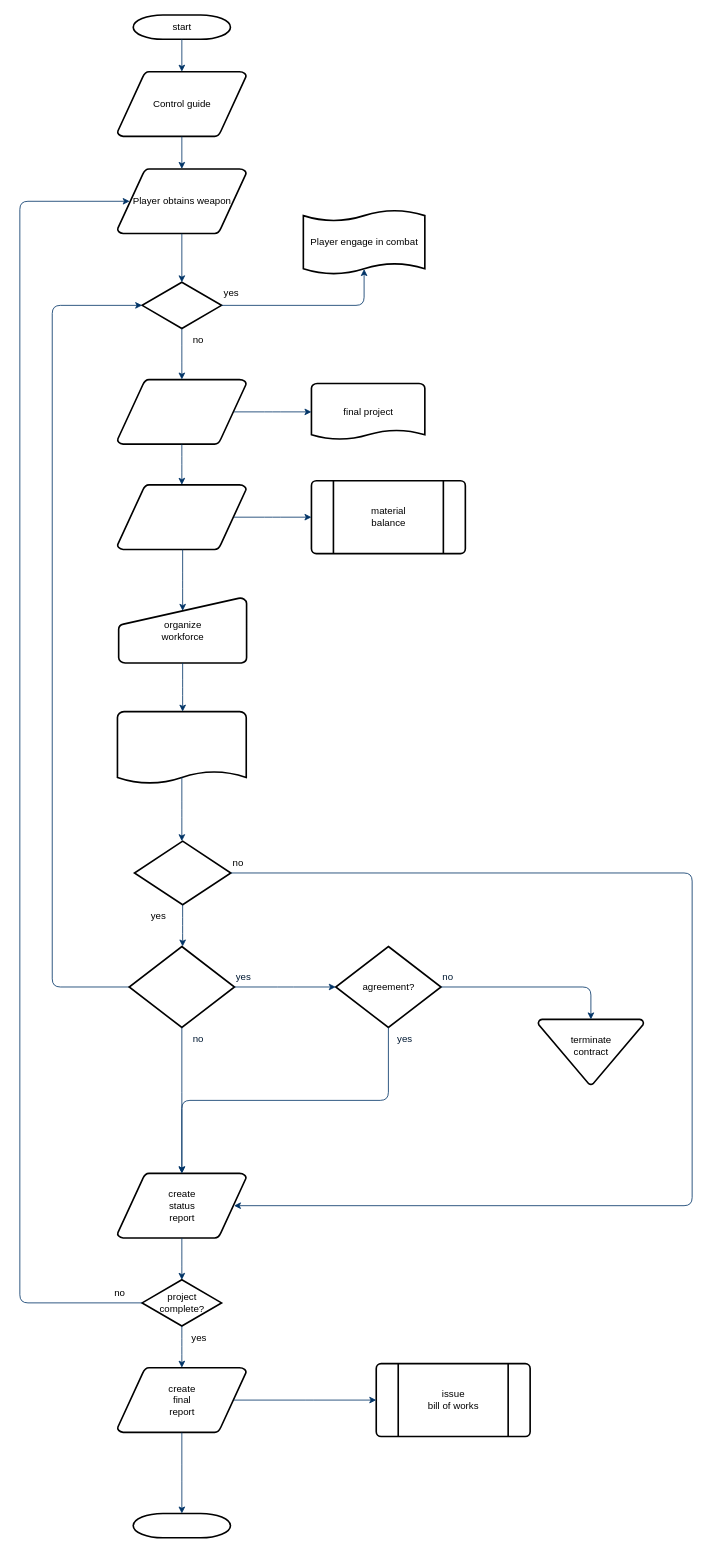
The diagram is 713 pixels wide and 1552 high, and some of its shapes have lost their labels. Each missing label, with the centre of its shape:
create Gantt diagram: the point at 181,747
create material specification: the point at 181,411
end: the point at 181,1525
investor disapproves investment?: the point at 181,986
late project changes?: the point at 182,872
obsticals?: the point at 181,305
order material: the point at 181,517
